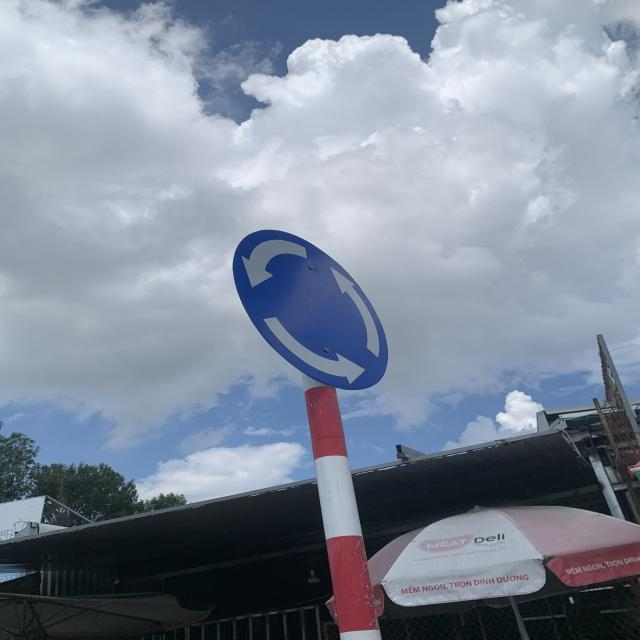Xe_Bus: (228, 216, 390, 393)
